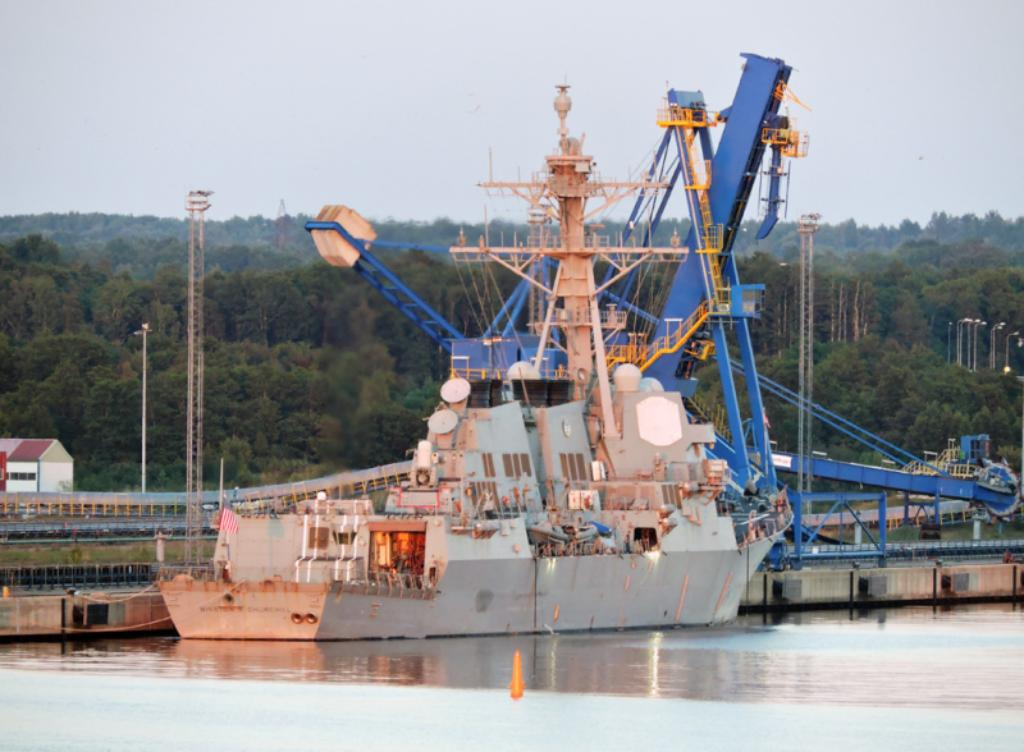Warship: (154, 82, 796, 646)
